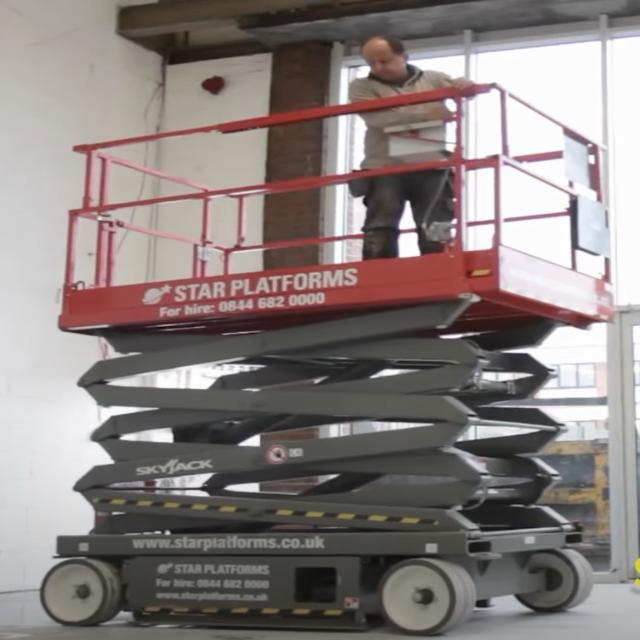2m above platform: (43, 124, 597, 633), (59, 327, 580, 613)
worker: (347, 37, 462, 252)
